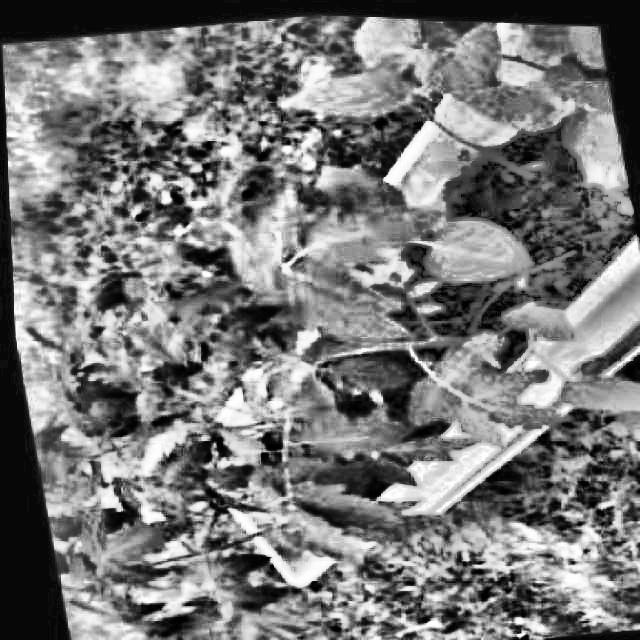plants: (3, 110, 603, 638), (257, 9, 626, 234)
